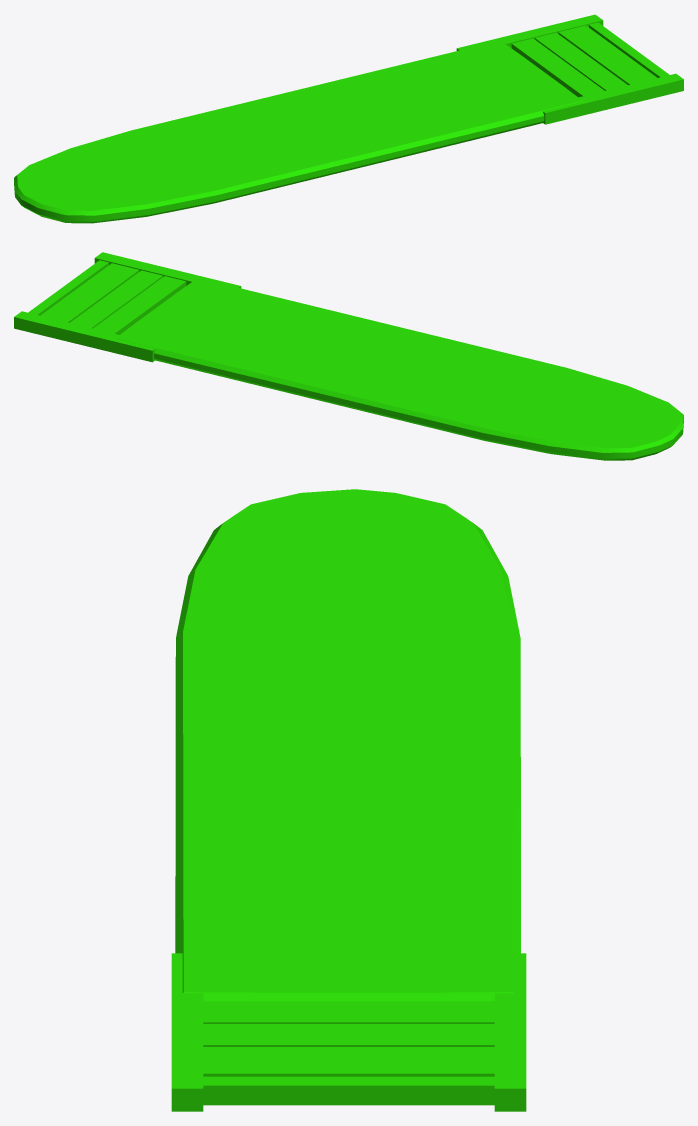
Rendered from Ironing_Board_01_Close_Lod1.fbx.
3 renders of one model, top to bottom at view 1: azimuth 30°, elevation 25°; view 2: azimuth 150°, elevation 25°; view 3: azimuth 270°, elevation 25°, orthographic. The views are drawn at different scales.
Visible parts, largest first — view 1: Ironing_Board_01_Close_Lod1; view 2: Ironing_Board_01_Close_Lod1; view 3: Ironing_Board_01_Close_Lod1.
Boxes of the visible parts, <box> form: Ironing_Board_01_Close_Lod1: <box>14,14,683,223</box>; Ironing_Board_01_Close_Lod1: <box>14,252,683,460</box>; Ironing_Board_01_Close_Lod1: <box>171,489,526,1111</box>.
Size of the model in its own units: 168 by 3.26 by 41.69.
